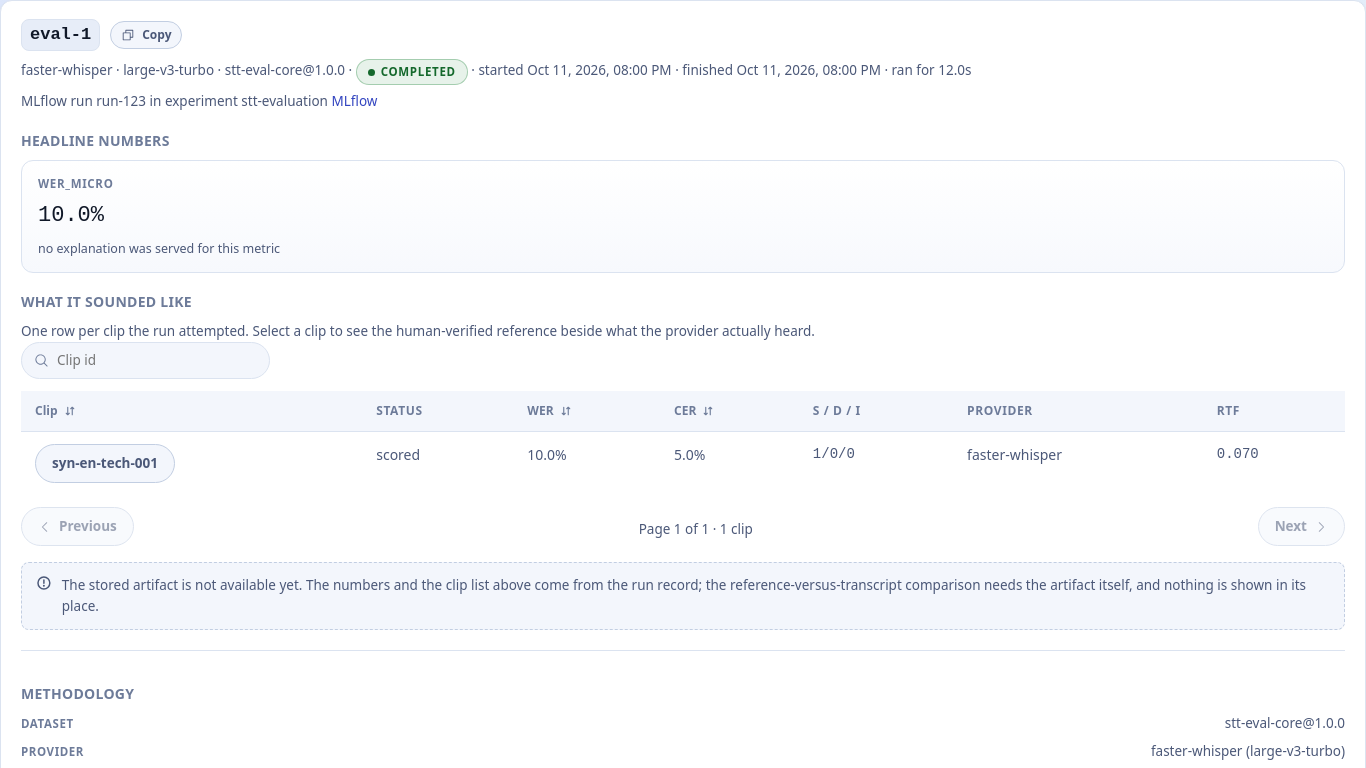
Test: EvaluationRunDetail › the header names the run, what ran it, and how long it took
This screenshot has width=1366, height=768.
Check: the text "stt-eval-core@1.0.0" shows "faster-whisper", box [21,62,112,80]
Check: the text "stt-eval-core@1.0.0" shows "large-v3-turbo", box [112,62,214,80]
Click the button with aria-label "copy evaluation id": (146,35) [110,21,182,50]
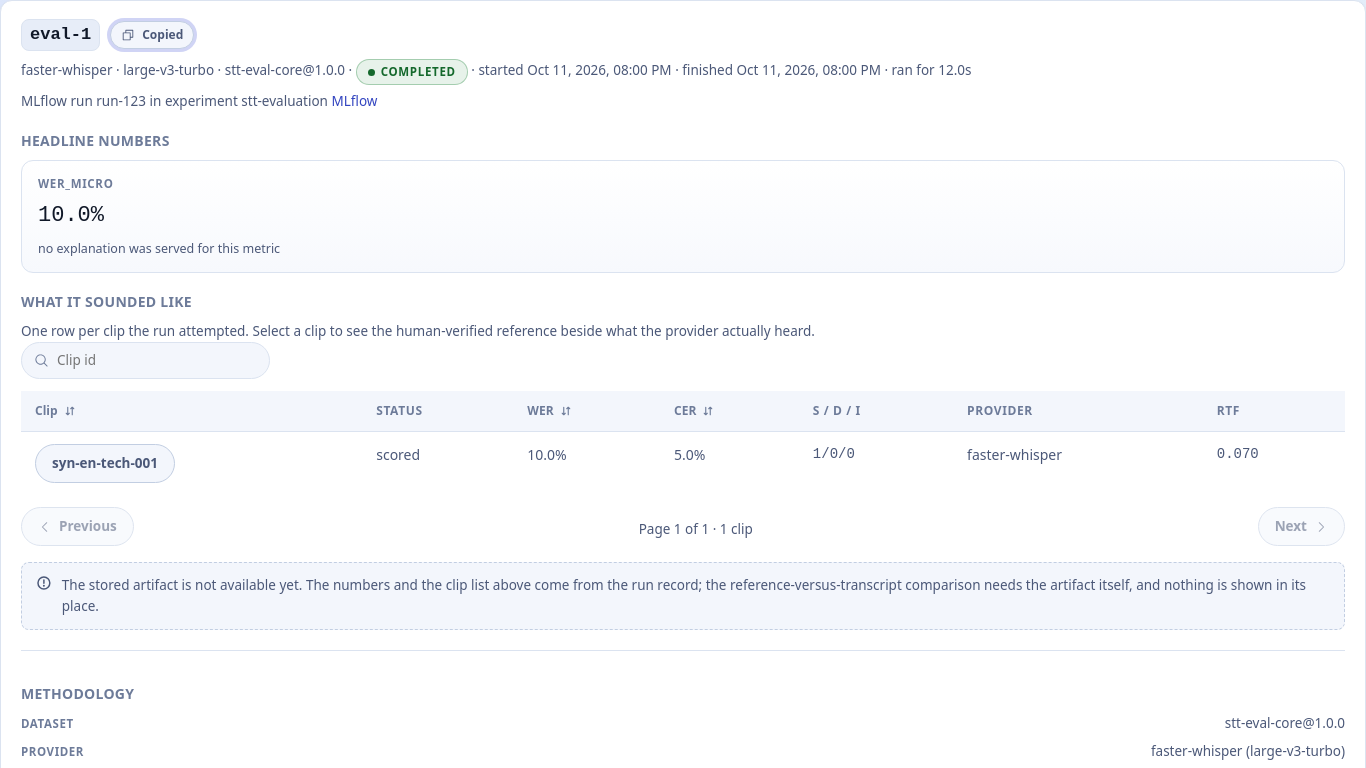
Check: the button with aria-label "copy evaluation id" reads "Copied", box [110,21,194,50]
